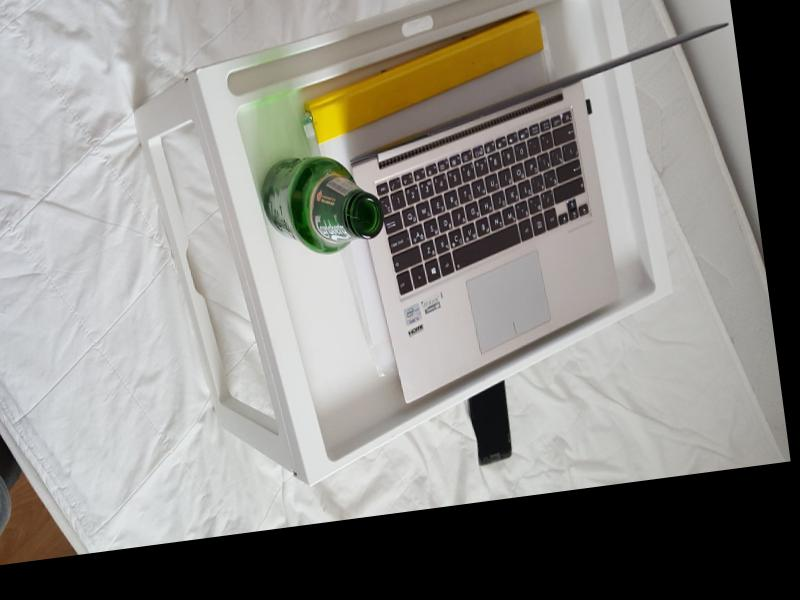Beer: (256, 147, 386, 262)
